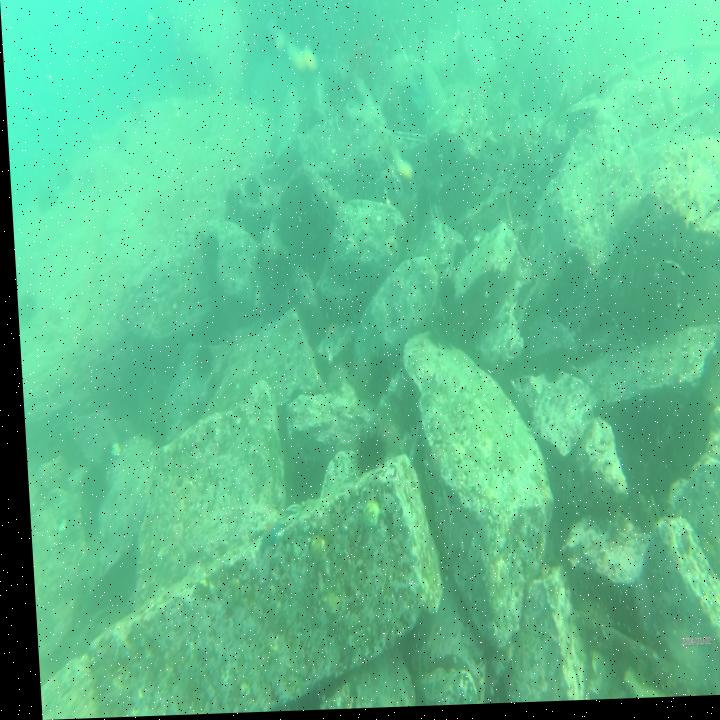echinus: (344, 433, 387, 486), (218, 186, 245, 227), (239, 169, 263, 214), (198, 234, 219, 278), (188, 342, 214, 377), (14, 288, 34, 330), (74, 165, 96, 198), (34, 184, 55, 218), (124, 95, 146, 124), (111, 124, 131, 151), (50, 161, 69, 187)
scallop: (299, 530, 322, 569), (354, 499, 375, 534)
starfish: (251, 521, 282, 559)
